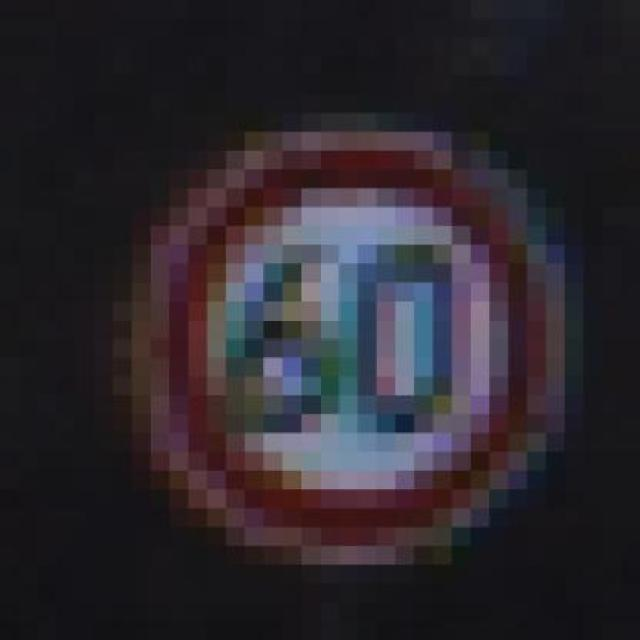forb_speed_over_60: (155, 138, 538, 544)
